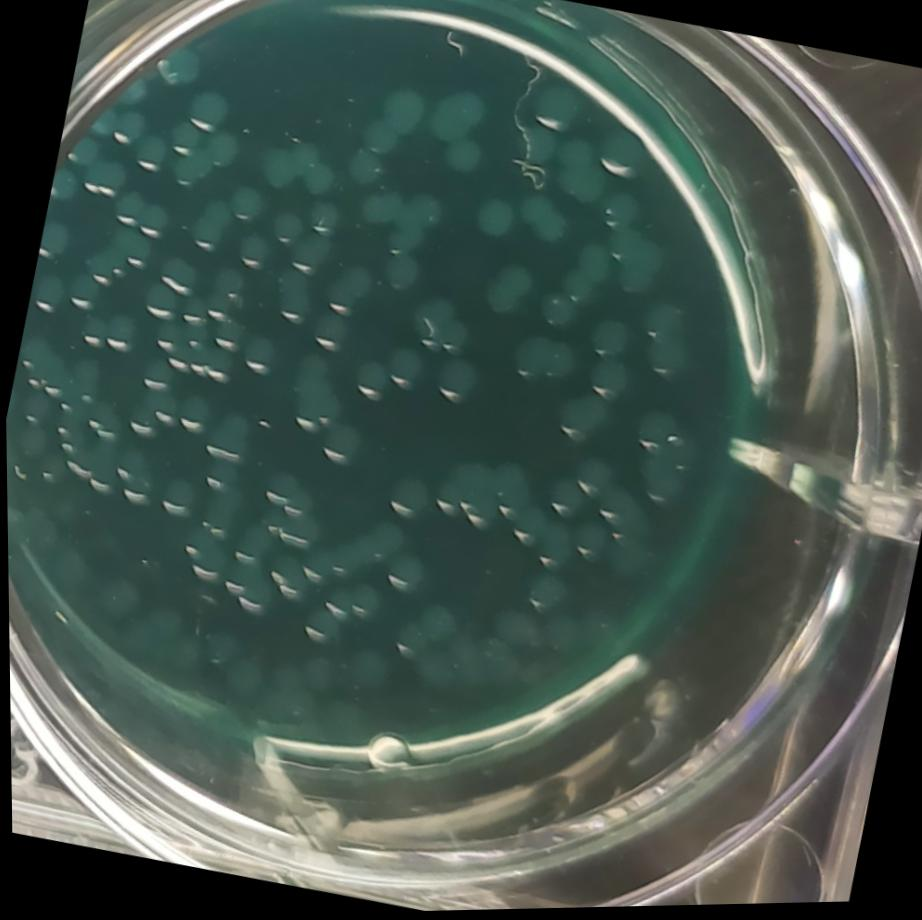pddamselae: (425, 442, 528, 539), (42, 376, 126, 491), (618, 406, 705, 511), (353, 180, 447, 257), (324, 510, 407, 587), (282, 349, 353, 438), (256, 127, 339, 201), (385, 593, 462, 672), (469, 256, 540, 335), (82, 221, 157, 294), (626, 296, 692, 378), (191, 460, 255, 541), (502, 504, 576, 571), (500, 329, 577, 391), (403, 292, 471, 359), (9, 331, 76, 399), (208, 555, 276, 620), (426, 84, 491, 150), (193, 400, 256, 466), (547, 386, 613, 447), (509, 188, 575, 249), (270, 500, 332, 558), (75, 306, 141, 359), (559, 242, 612, 307), (109, 184, 171, 239), (222, 510, 278, 570), (259, 548, 314, 608), (173, 524, 227, 584), (320, 575, 382, 627), (376, 467, 432, 524), (108, 443, 159, 505), (266, 264, 316, 327), (467, 184, 519, 244), (259, 465, 316, 519), (148, 37, 206, 90), (376, 78, 428, 137), (531, 80, 585, 135), (591, 128, 646, 181), (322, 259, 372, 317), (121, 386, 175, 439), (517, 567, 569, 622), (182, 83, 233, 139), (315, 415, 367, 469), (185, 198, 234, 255), (344, 352, 398, 403), (506, 116, 555, 169), (581, 353, 632, 403), (353, 114, 402, 164), (563, 454, 613, 503), (432, 355, 480, 406), (382, 344, 431, 393), (169, 142, 218, 191), (583, 313, 632, 362), (340, 142, 388, 192), (154, 251, 206, 297), (376, 250, 425, 298), (543, 475, 590, 524), (380, 545, 426, 594), (199, 123, 245, 172), (78, 155, 128, 199), (305, 309, 351, 356), (239, 330, 283, 379), (295, 608, 339, 654), (138, 277, 181, 322), (46, 156, 84, 206), (26, 272, 70, 315), (221, 180, 264, 224), (158, 476, 200, 520), (532, 290, 574, 334), (165, 393, 207, 436), (134, 353, 176, 396), (106, 107, 148, 150), (162, 115, 204, 158), (231, 228, 272, 272), (129, 132, 170, 175), (60, 130, 101, 171), (35, 220, 71, 266), (63, 272, 102, 312), (303, 201, 343, 239), (198, 285, 235, 326), (267, 207, 305, 246), (85, 100, 122, 140), (210, 316, 248, 354), (208, 264, 246, 300)
